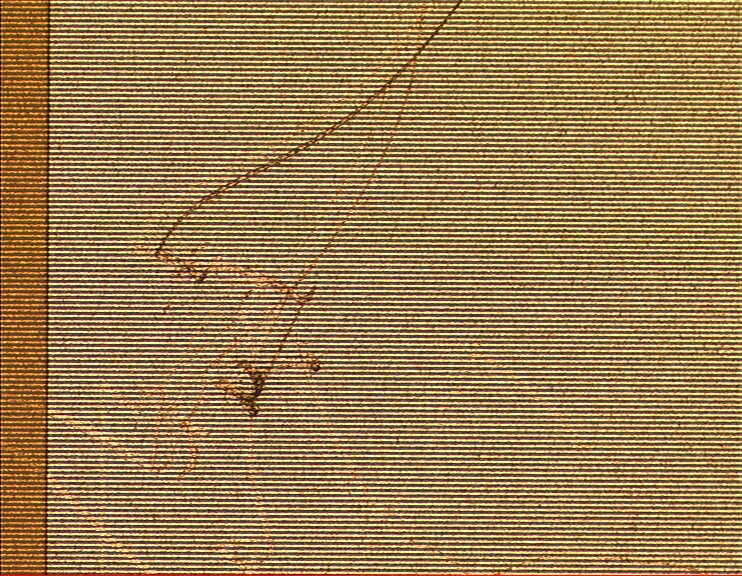SCRATCH: (149, 1, 471, 426)
